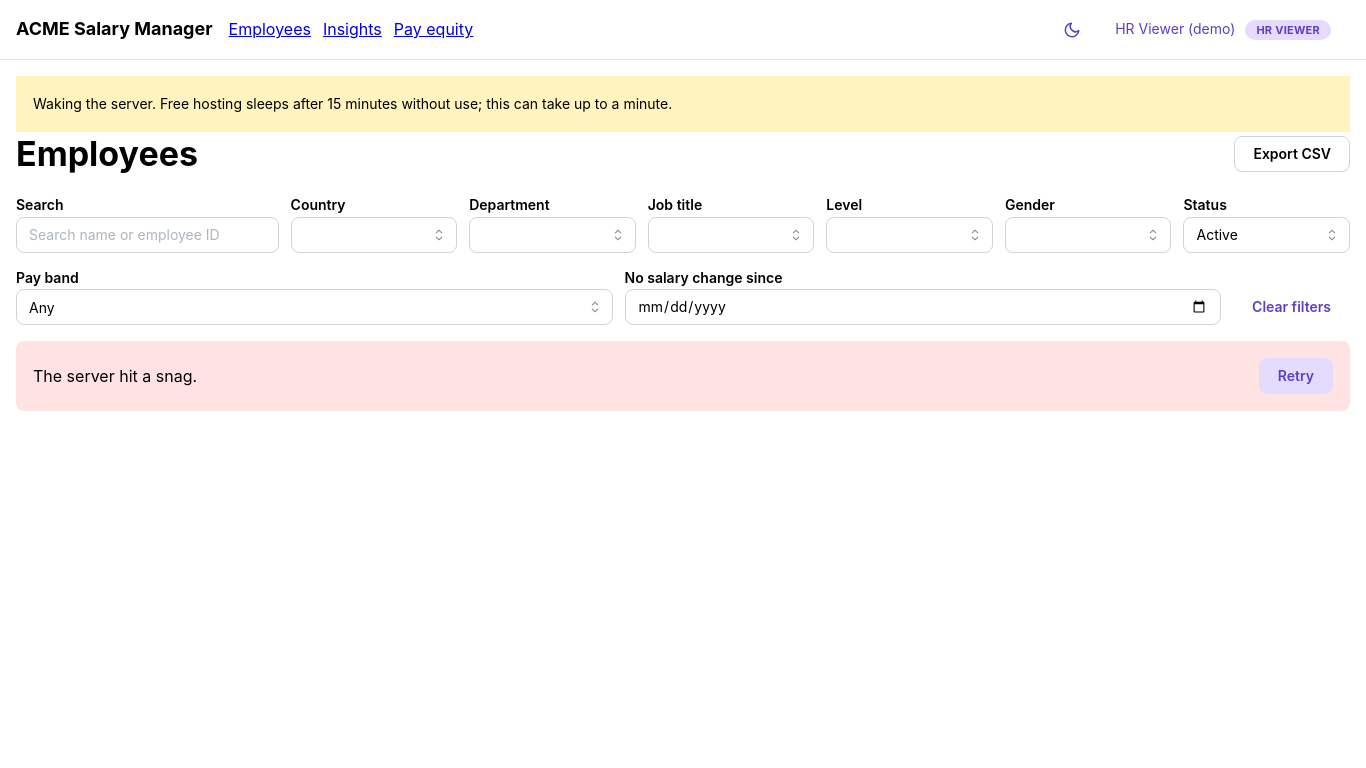
employee list page (04 section 8.5) › shows the error alert with "Retry" on a 500 problem
The image size is (1366, 768).
Expected: the message "The server hit a snag. Retry" is shown, 16,342 -> 1350,412
Click the button "Retry". click: x=1296, y=376
box: 1259,358 -> 1333,394
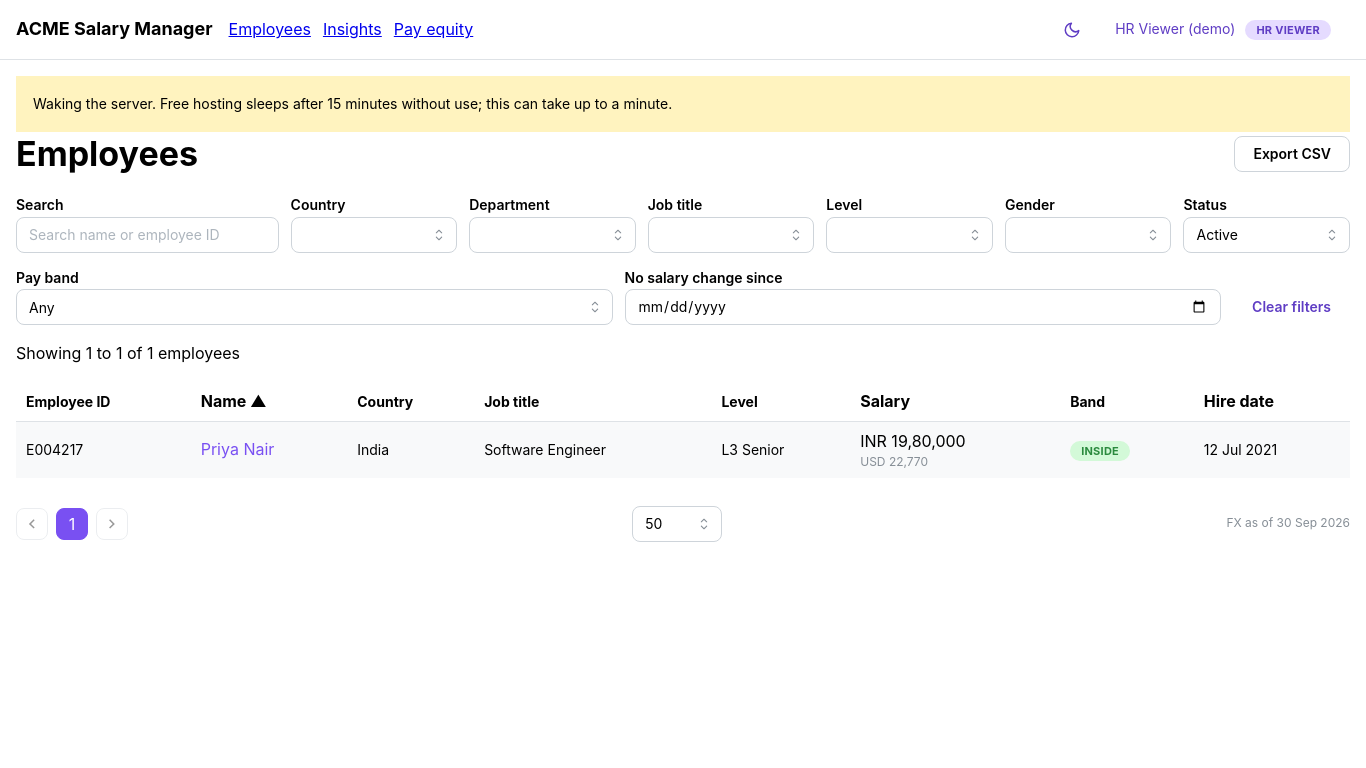
Result: the link "Priya Nair" is shown at 201,438 -> 274,462
Result: the message "The server hit a snag. Retry" is gone
